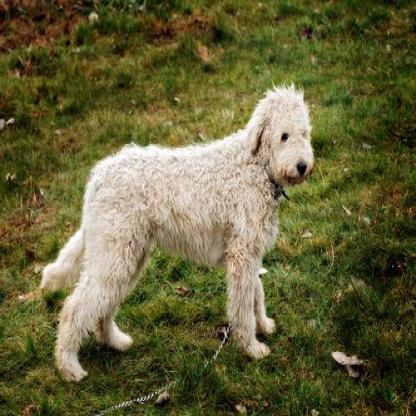komondor: (38, 76, 314, 384)
